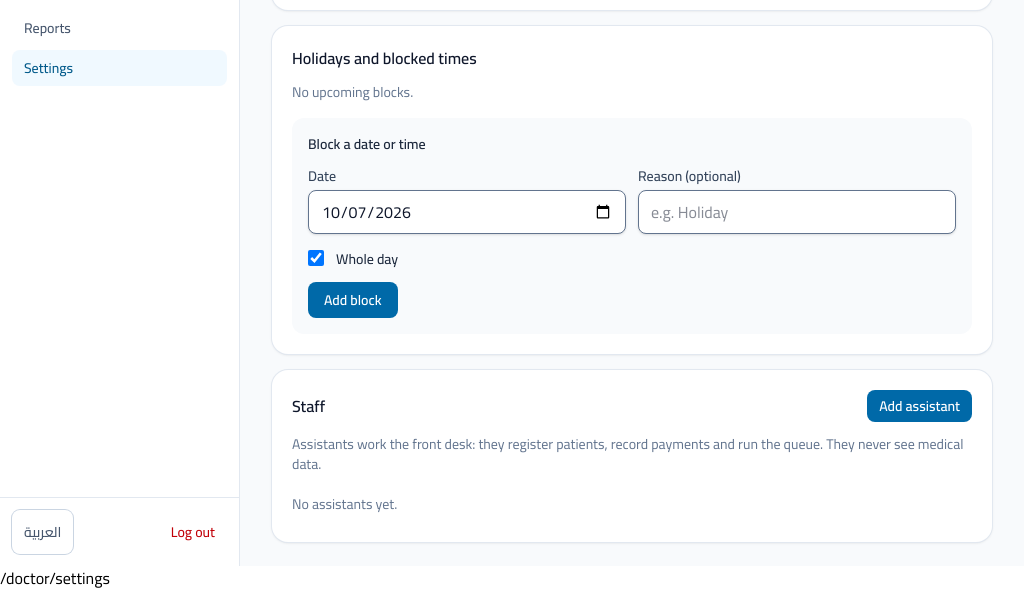
Test case: Settings: staff › adds an assistant and shows the password once
The image size is (1024, 593).
(page scrolled)
Expected: the text "No assistants yet." is shown, [292, 491, 397, 517]
Click the button "Add assistant".
click(920, 406)  # box [867, 390, 972, 422]
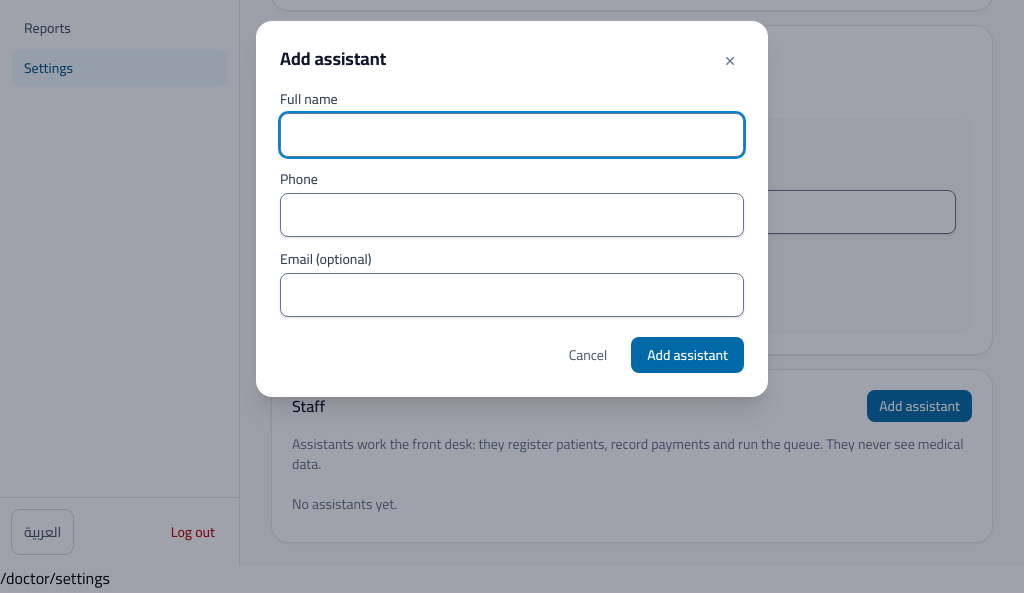
Type "Amal Saad" into the field labelled "Full name".
click(512, 135); type("Amal Saad")  # box [280, 113, 744, 157]
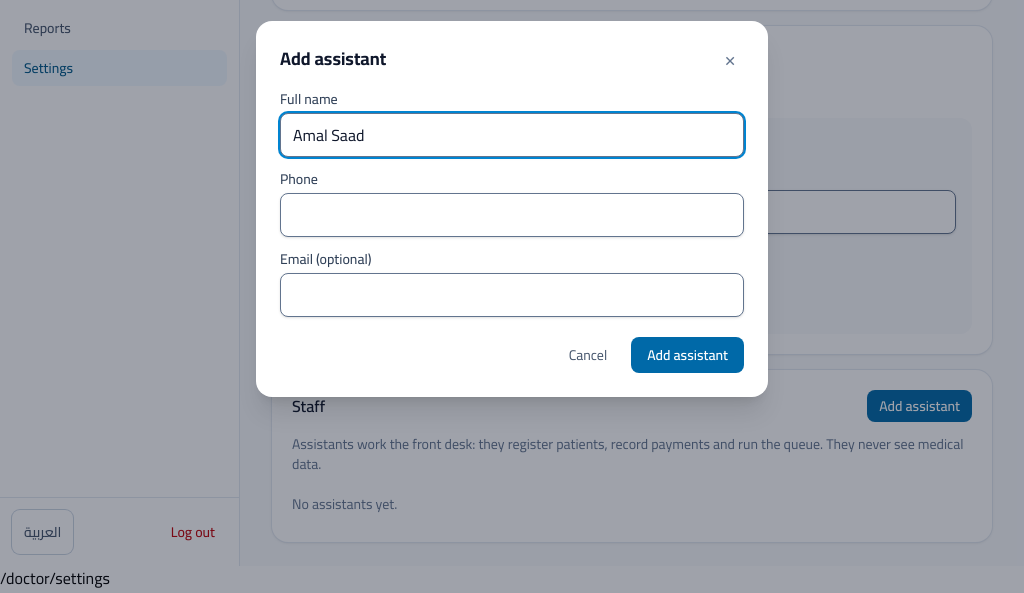
Type "01022223333" into the field labelled "Phone".
click(512, 215); type("01022223333")  # box [280, 193, 744, 237]
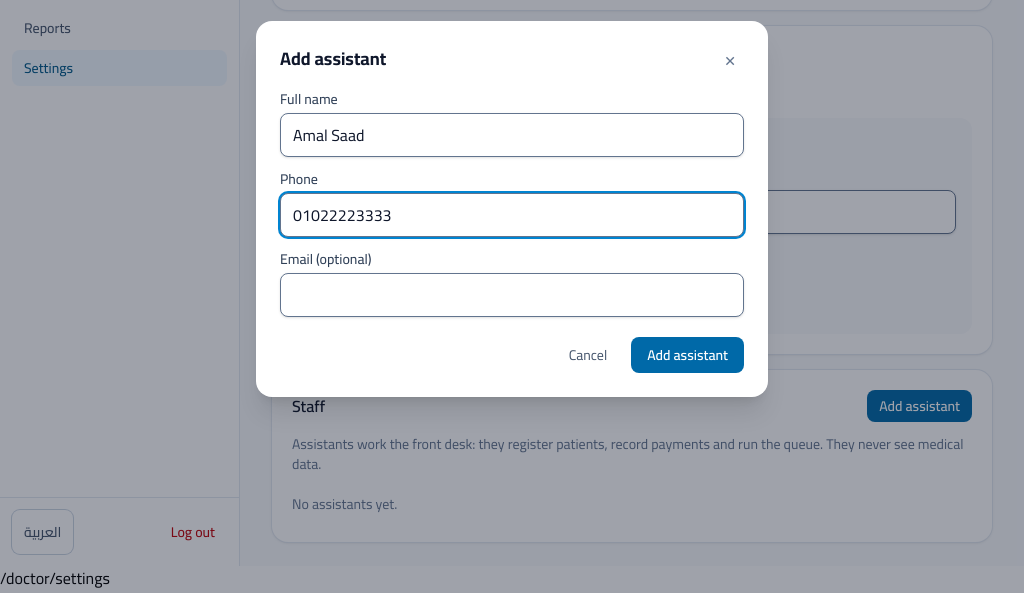
Click the button "Add assistant".
click(688, 355)  # box [631, 337, 744, 373]
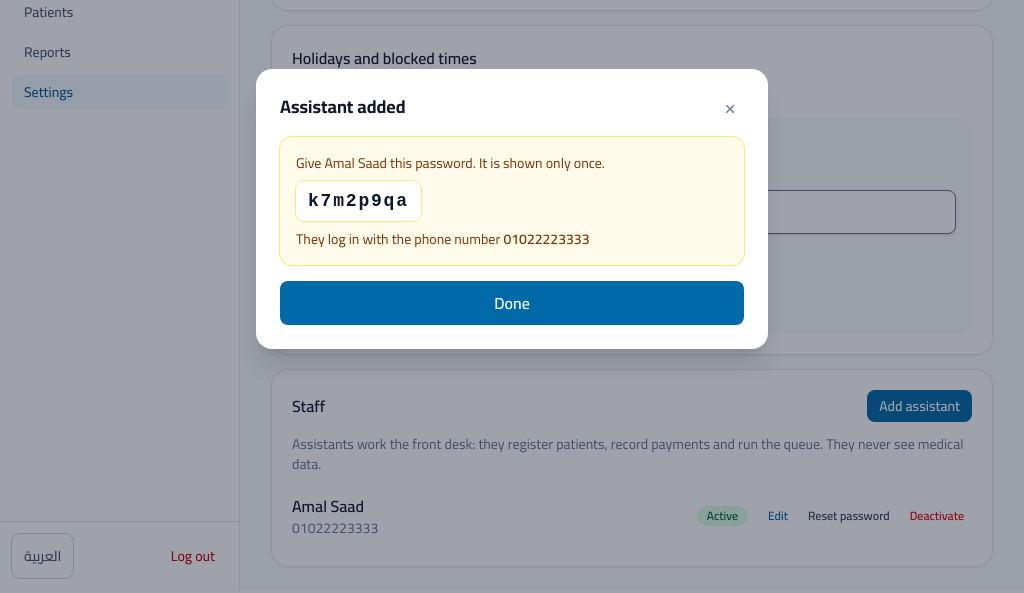
Result: the dialog "Assistant added" is shown at [256, 69, 768, 349]
Result: the text with test id "staff-password" reads "k7m2p9qa" at [308, 191, 409, 211]
Click the button "Done".
click(512, 303)  # box [280, 281, 744, 325]
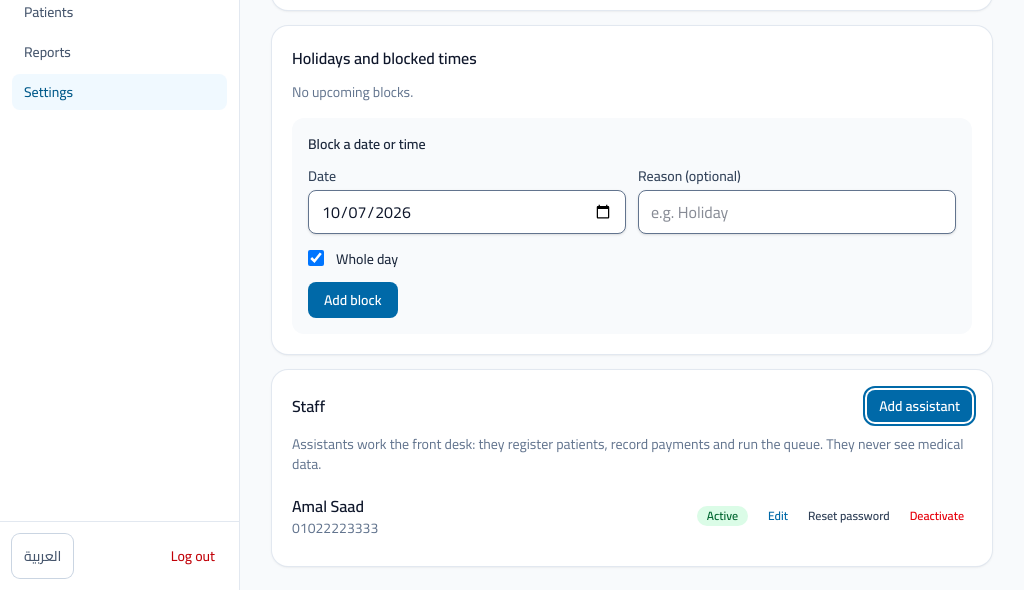
Result: the text "Amal Saad" is shown at [292, 491, 364, 521]
Result: the text "Active" is shown at [697, 506, 748, 526]
Result: the text with test id "staff-password" is gone
